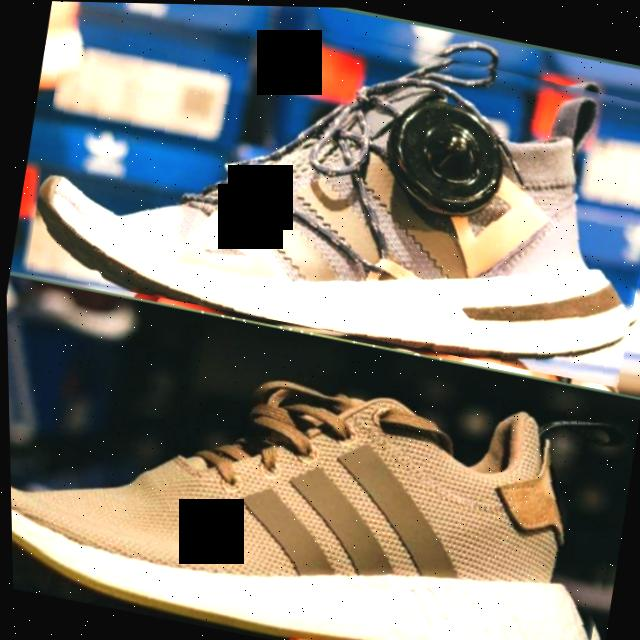shoe: (20, 0, 640, 387), (5, 296, 639, 640)
